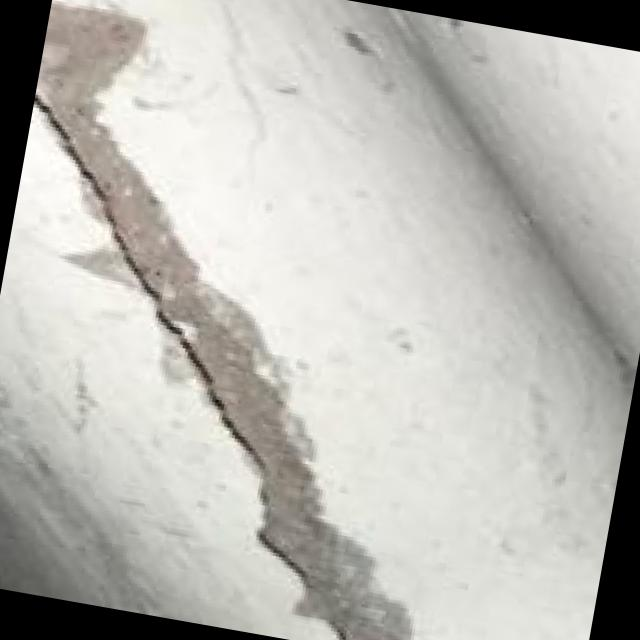crack: (0, 59, 498, 640)
